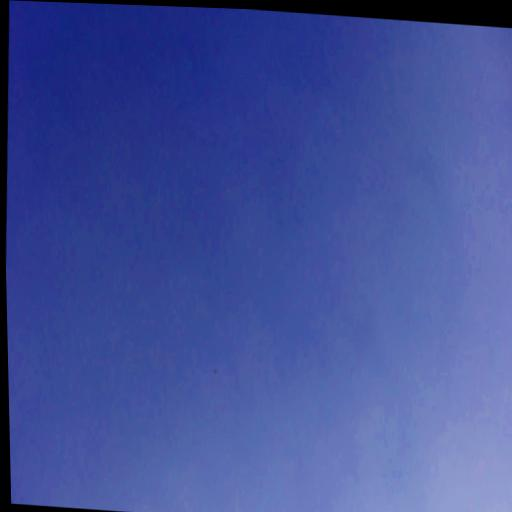drones: (211, 367, 218, 377)
